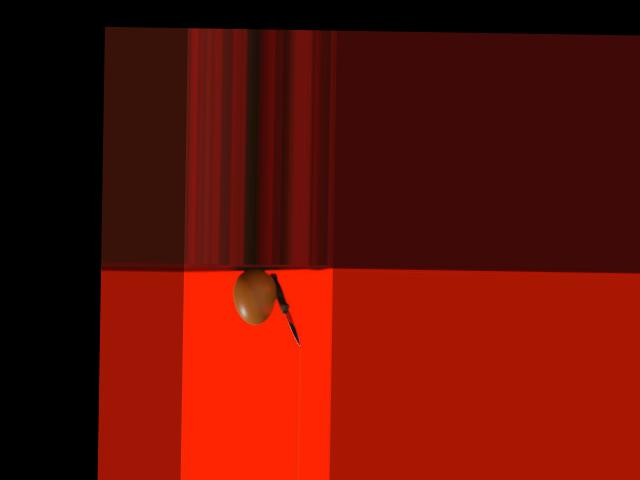egg: (233, 269, 276, 324)
